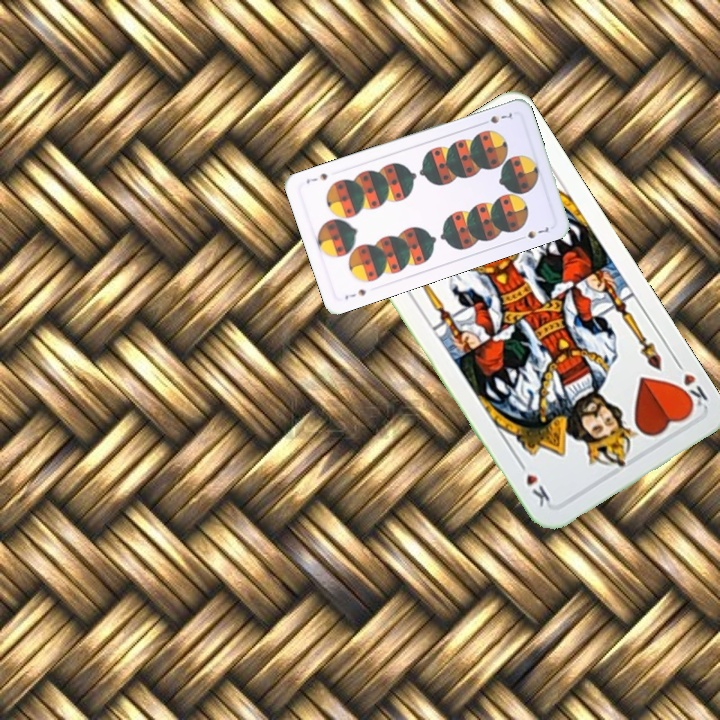HK: (671, 355, 711, 414)
S7: (477, 109, 515, 127), (341, 285, 368, 302)
